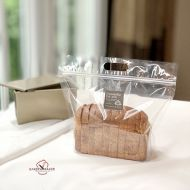Snack: (56, 51, 180, 165)
